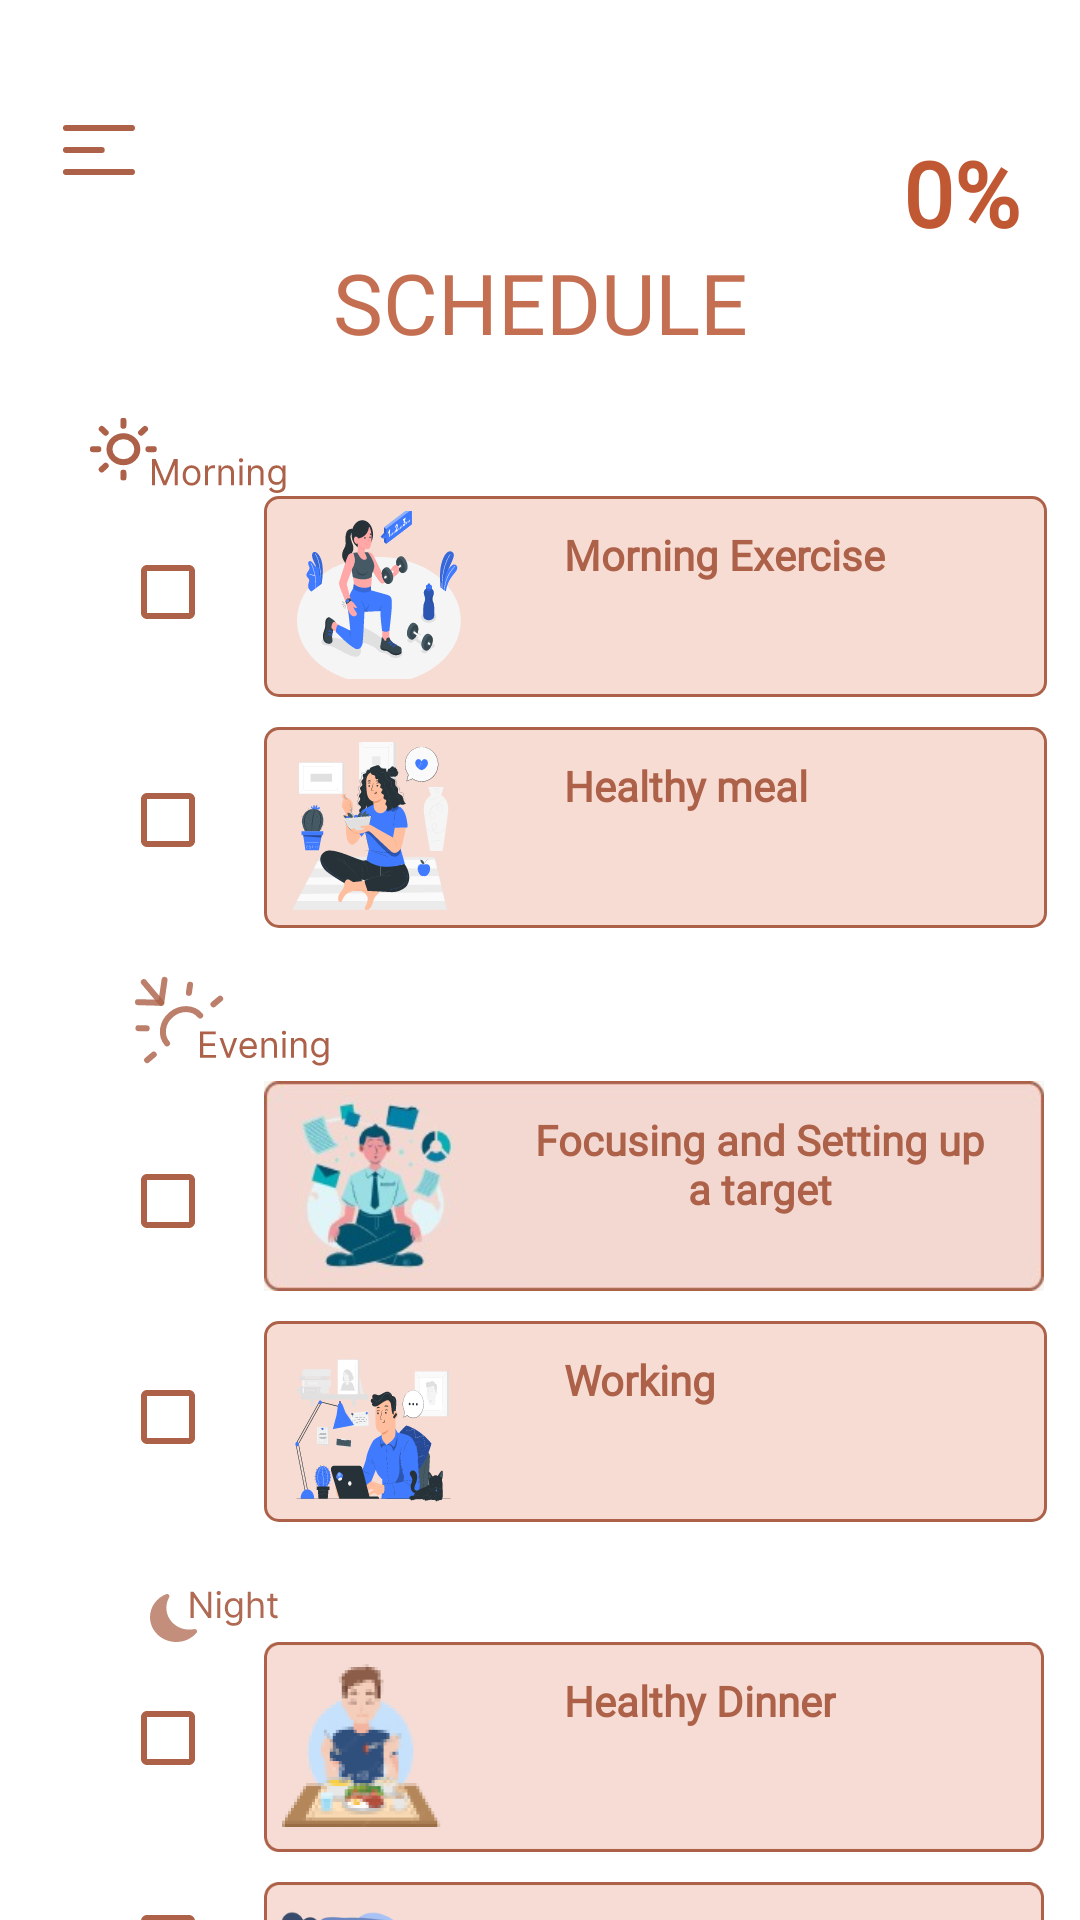

Where to tap for icons on this 1080 x 1920 app screen, as (x=x, y=y):
hamburger: (x=99, y=150)
